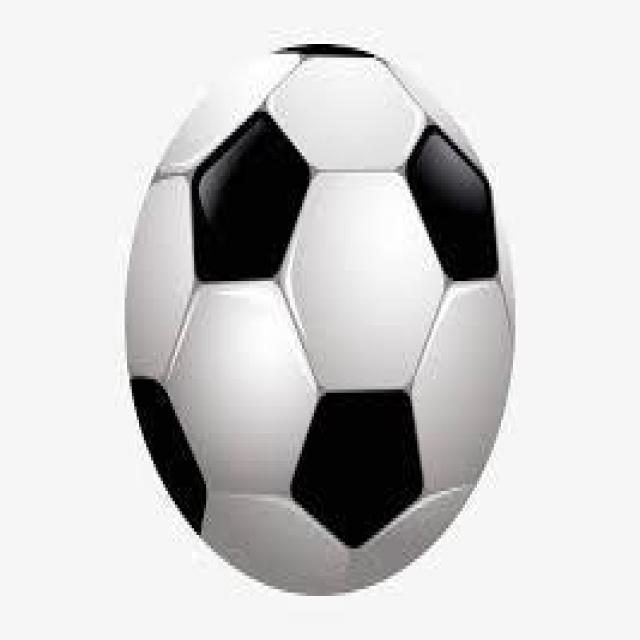Soccer Ball: (127, 41, 515, 599)
